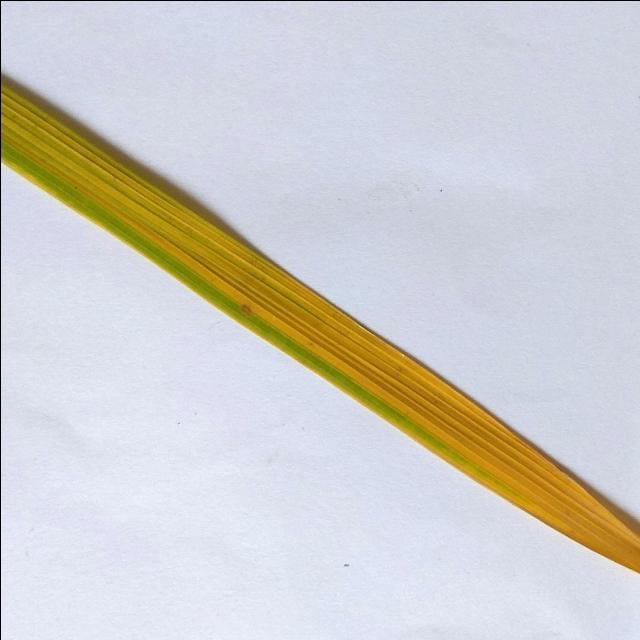Bacterial leaf blight: (0, 75, 640, 572)
